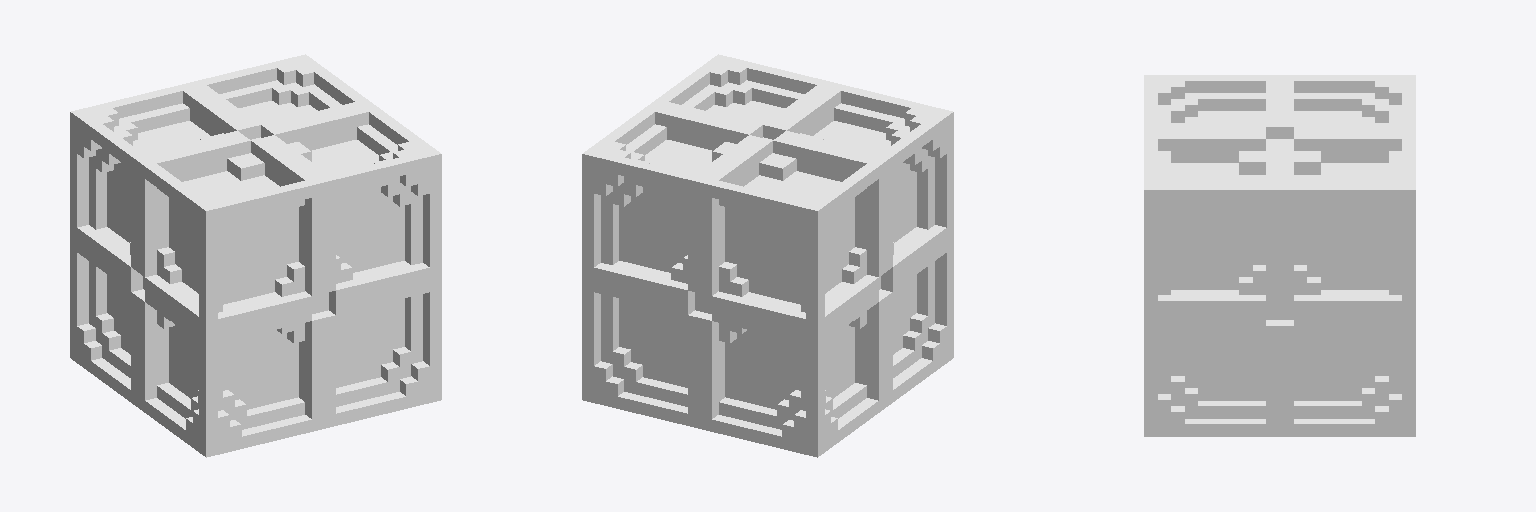
Rendered from game-13.obj.
3 views of the same model, side by side, from view 1: azimuth 30°, elevation 25°; view 2: azimuth 150°, elevation 25°; view 3: azimuth 270°, elevation 25° (orthographic).
Visible parts, largest first — view 1: object 1; view 2: object 1; view 3: object 1.
Part boxes in pixels (x1,y1,x2,y2): object 1: (70,54,441,457); object 1: (582,54,953,457); object 1: (1144,75,1415,436).
Size of the model in its own units: 2 by 2 by 2.